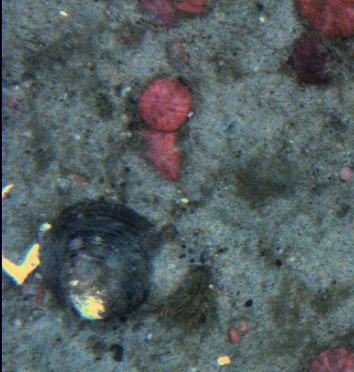Oyster-Closed: (35, 204, 173, 323)
